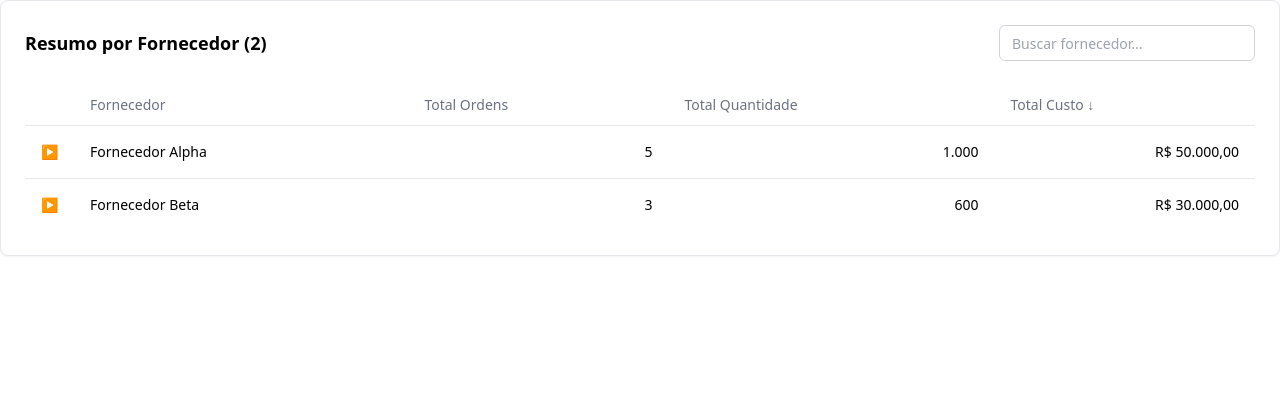
it: SupplierSummaryTable › should collapse an expanded row when clicked again
Step 1. Click the text "Fornecedor Alpha" → click(148, 151), box 74,125 -> 408,178
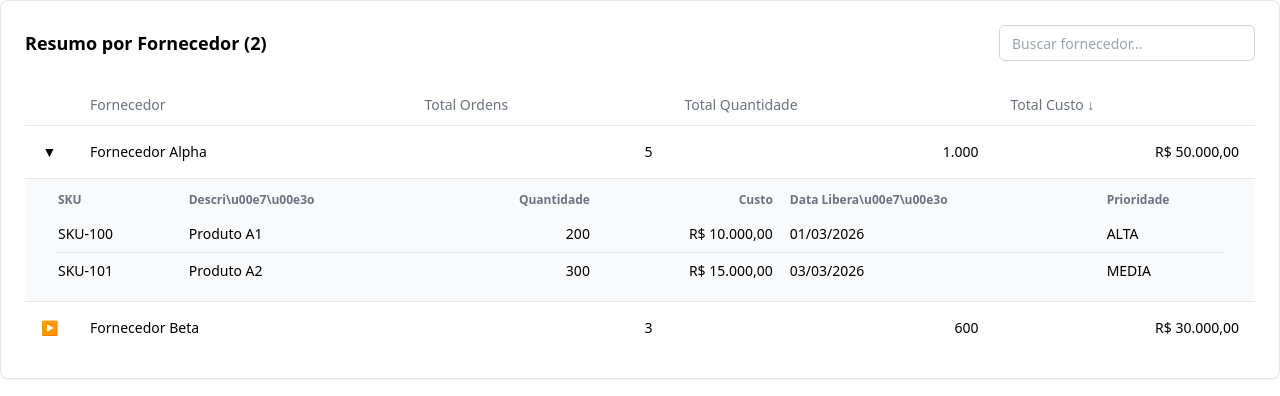
Result: the text "SKU-100" is shown at 57,216 -> 188,252
Step 2. Click the text "Fornecedor Alpha" → click(148, 151), box 74,125 -> 408,178
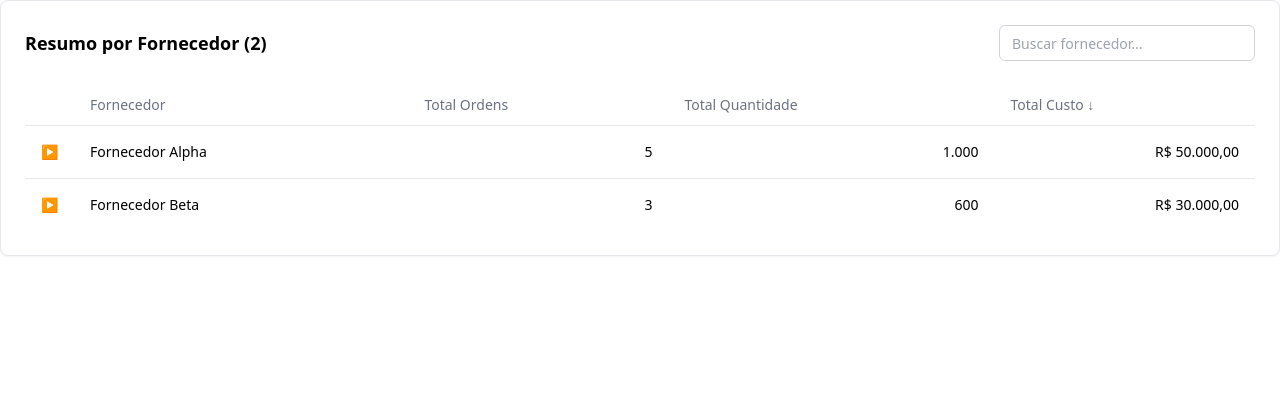
Result: the text "Produto A1" is gone
